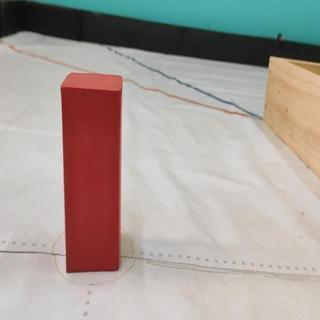redbox: (61, 71, 124, 273)
